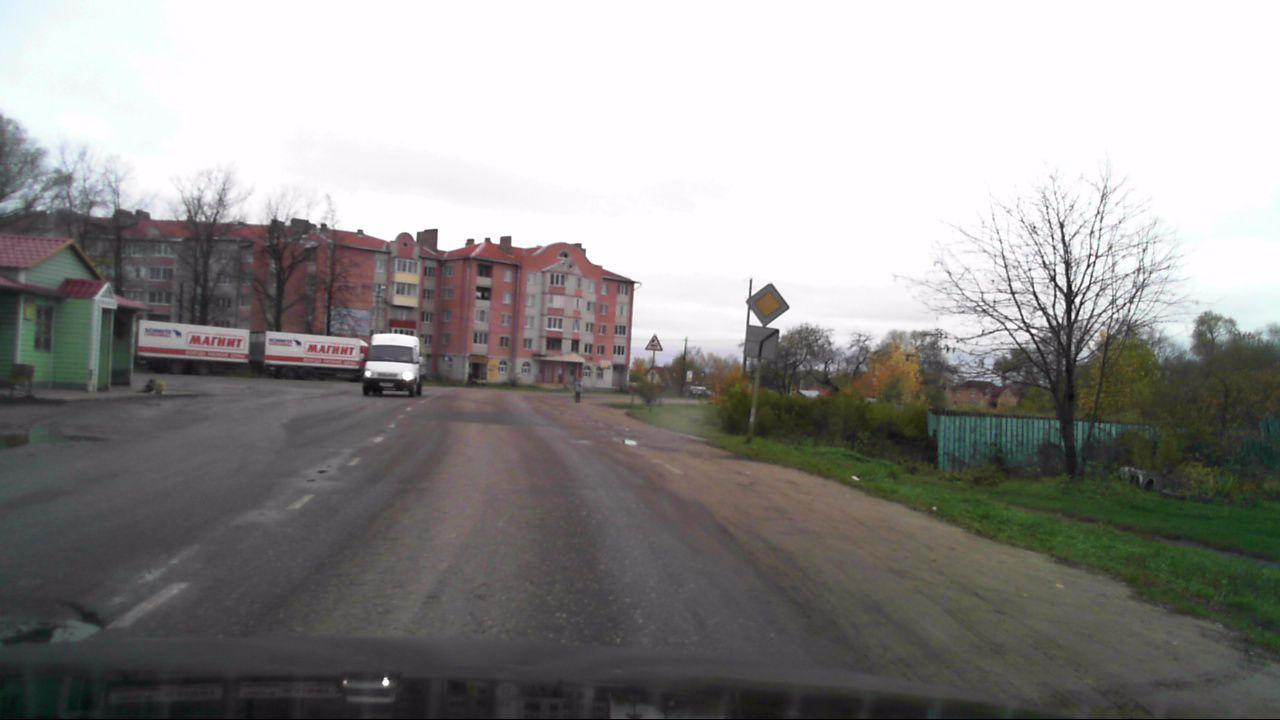1_2: (643, 332, 663, 351)
2_1: (747, 277, 789, 325)
8_13: (744, 323, 782, 362)
